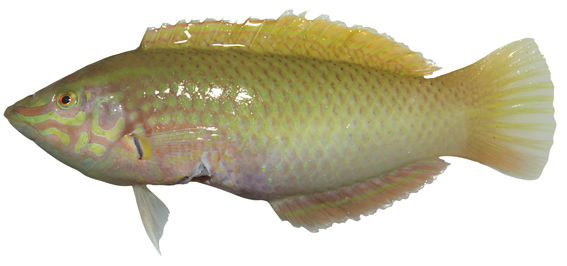fish: (4, 8, 557, 256)
